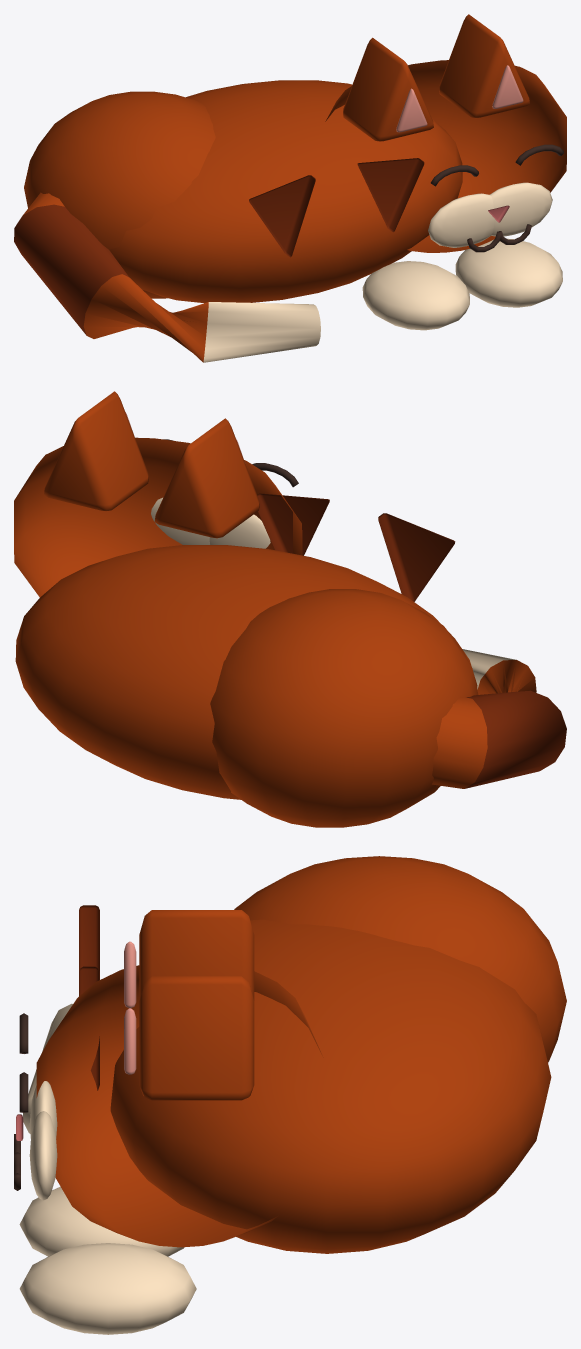
Rendered from cat-sleep.glb.
3 renders of one model, top to bottom at view 1: azimuth 30°, elevation 25°; view 2: azimuth 150°, elevation 25°; view 3: azimuth 270°, elevation 25°, orthographic. The views are drawn at different scales.
Parts seen in each view (by area): view 1: cat-sleep; view 2: cat-sleep; view 3: cat-sleep.
Boxes of the visible parts, x1,y1,x2,y2 form: cat-sleep: (14, 14, 566, 362); cat-sleep: (14, 391, 566, 827); cat-sleep: (14, 856, 566, 1334).
Size of the model in its own units: 0.7 by 0.35 by 0.5.
